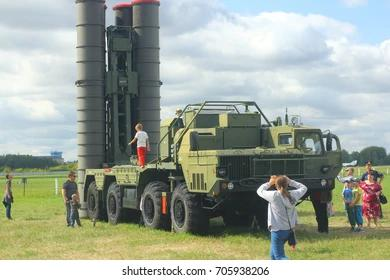MIL_SAM_TEL: (68, 0, 339, 236)
